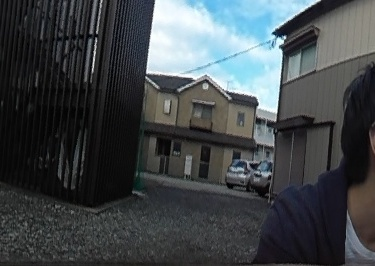person: (267, 67, 375, 266)
